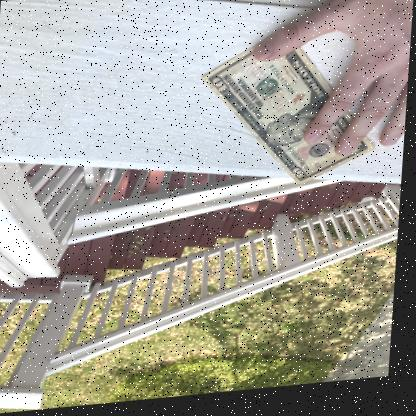ten-front: (195, 31, 377, 187)
